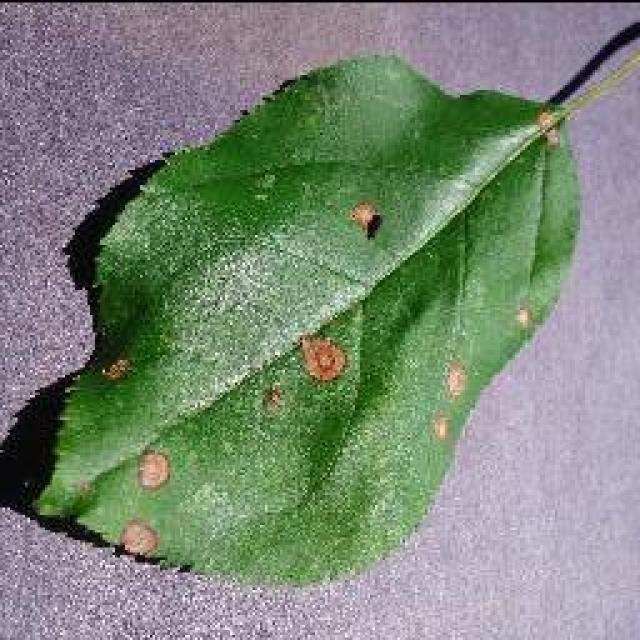apple healthy: (0, 10, 638, 592)
